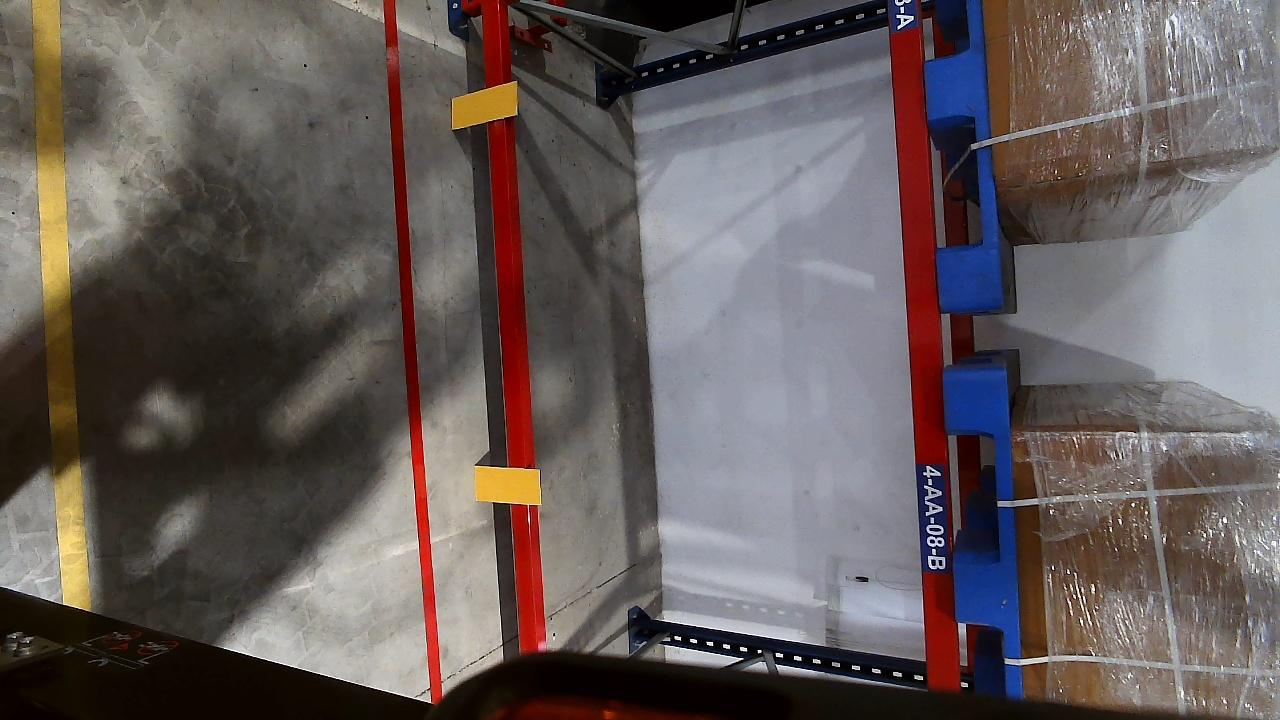h_rack: (893, 0, 954, 694), (482, 6, 545, 646)
orange_strip: (451, 82, 519, 129), (473, 466, 540, 505)
red_line: (368, 0, 448, 698)
small_pallet: (915, 1, 1008, 307), (943, 370, 1028, 691)
yellow_line: (17, 0, 99, 603)
